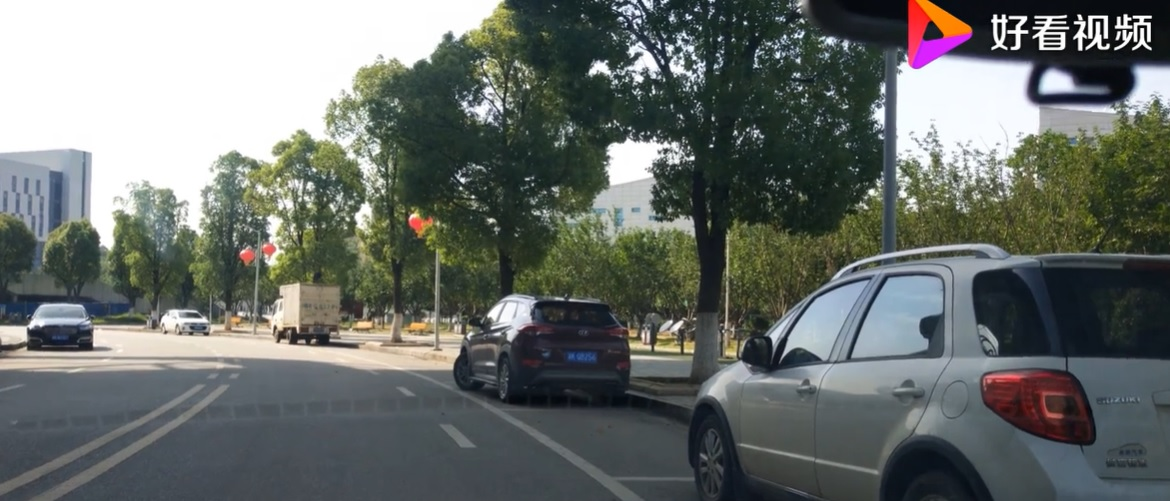slot_nocar: (462, 379, 772, 489), (338, 330, 478, 386)
